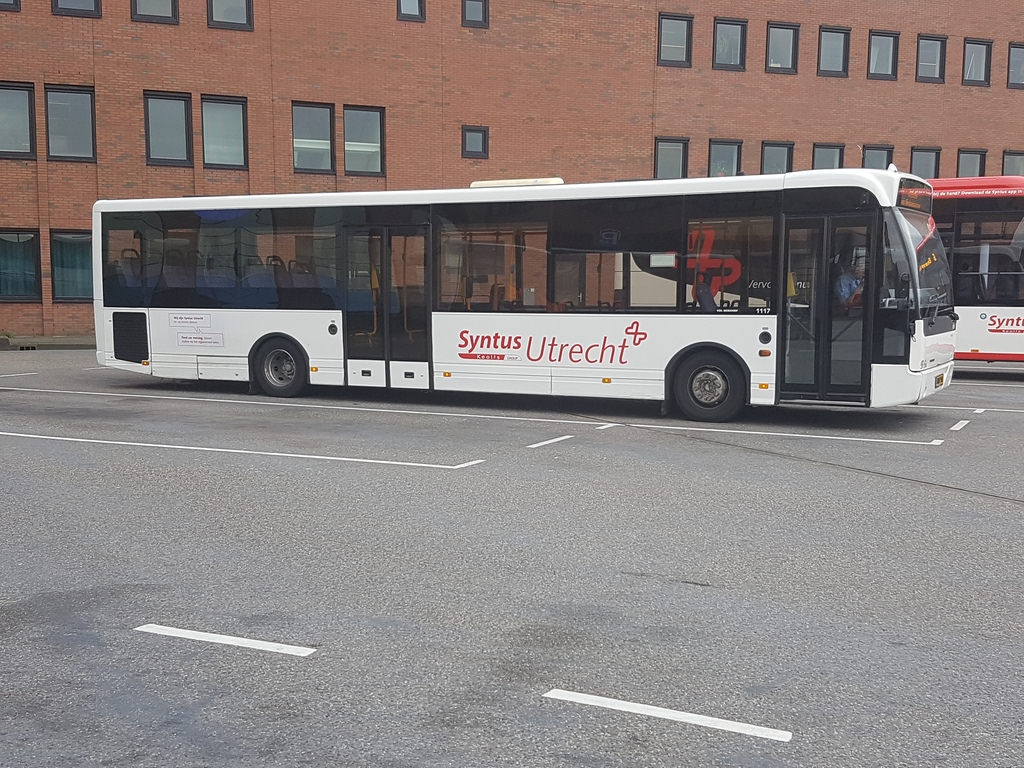bus: (88, 166, 971, 446)
